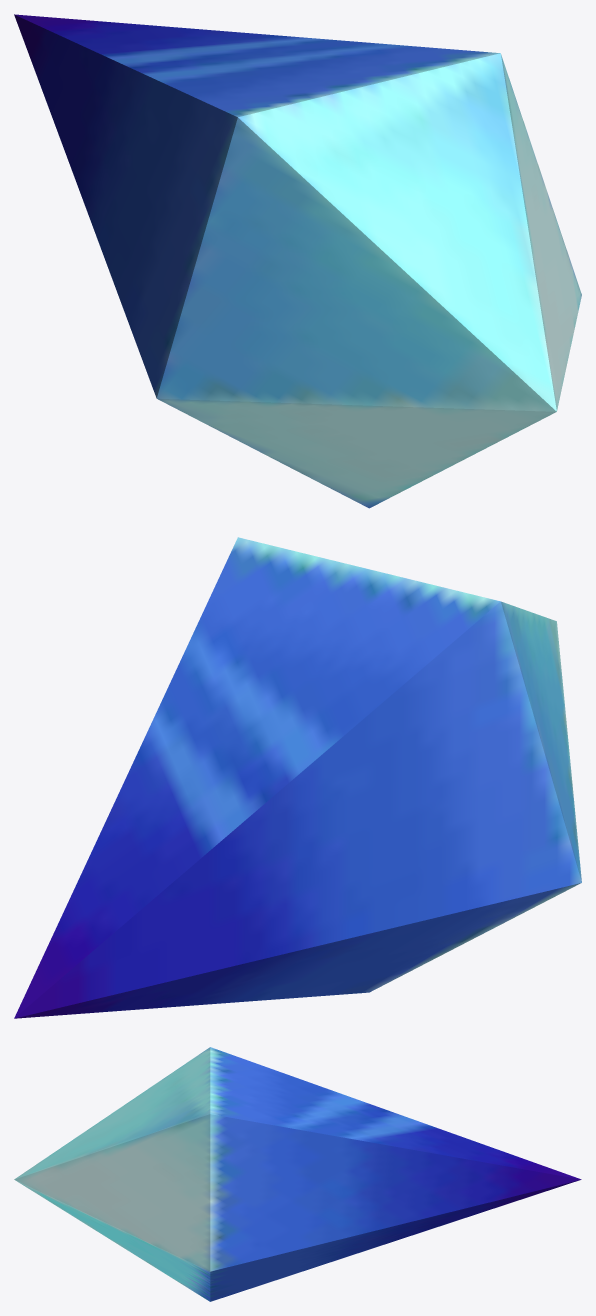
Rendered from putong.fbx.
3 renders of one model, top to bottom at view 1: azimuth 30°, elevation 25°; view 2: azimuth 150°, elevation 25°; view 3: azimuth 270°, elevation 25°, orthographic. The views are drawn at different scales.
Parts seen in each view (by area): view 1: putong; view 2: putong; view 3: putong.
Boxes of the visible parts, x1,y1,x2,y2 form: putong: (14,14,581,508); putong: (14,537,581,1018); putong: (14,1047,581,1301).
Size of the model in its own units: 0.1809 by 0.172 by 0.4.
Materials: 1 (1 with a texture image).
